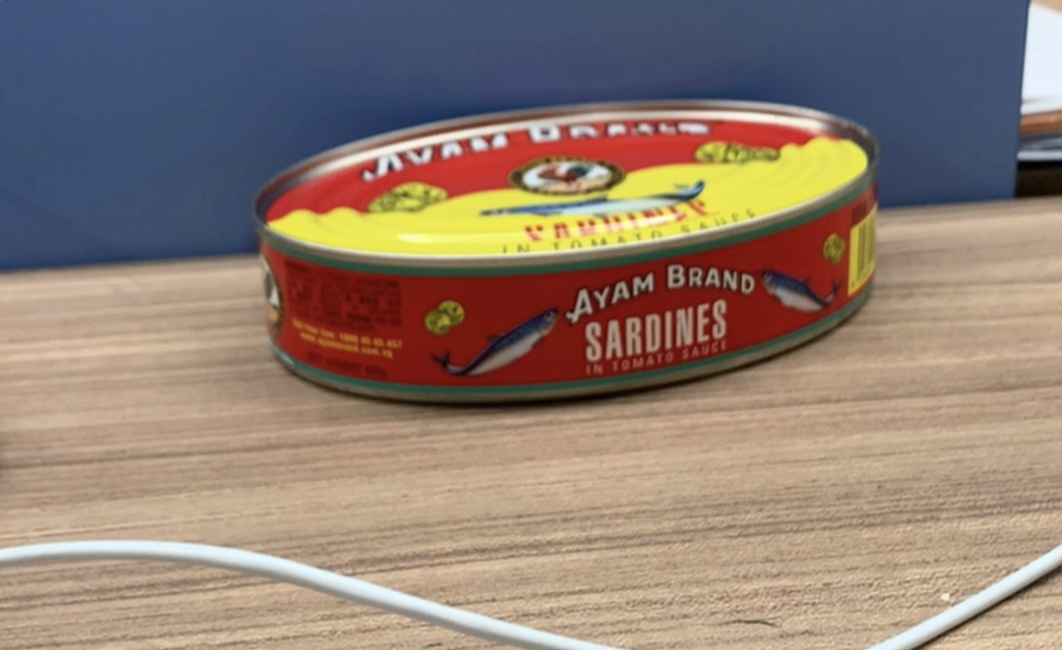sardines_450g: (299, 123, 842, 369)
